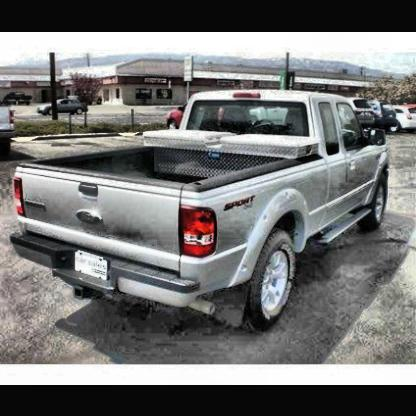Ford Ranger SuperCab 2011: (13, 91, 389, 338)
